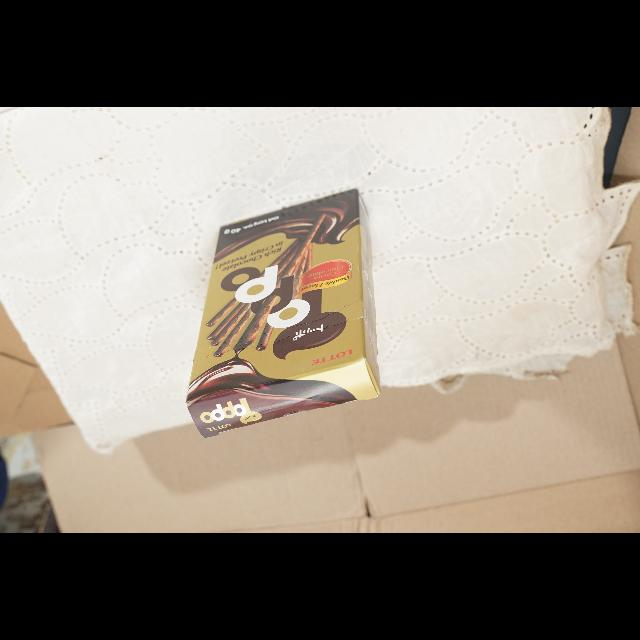banh_toppo_socola: (186, 190, 380, 437)
